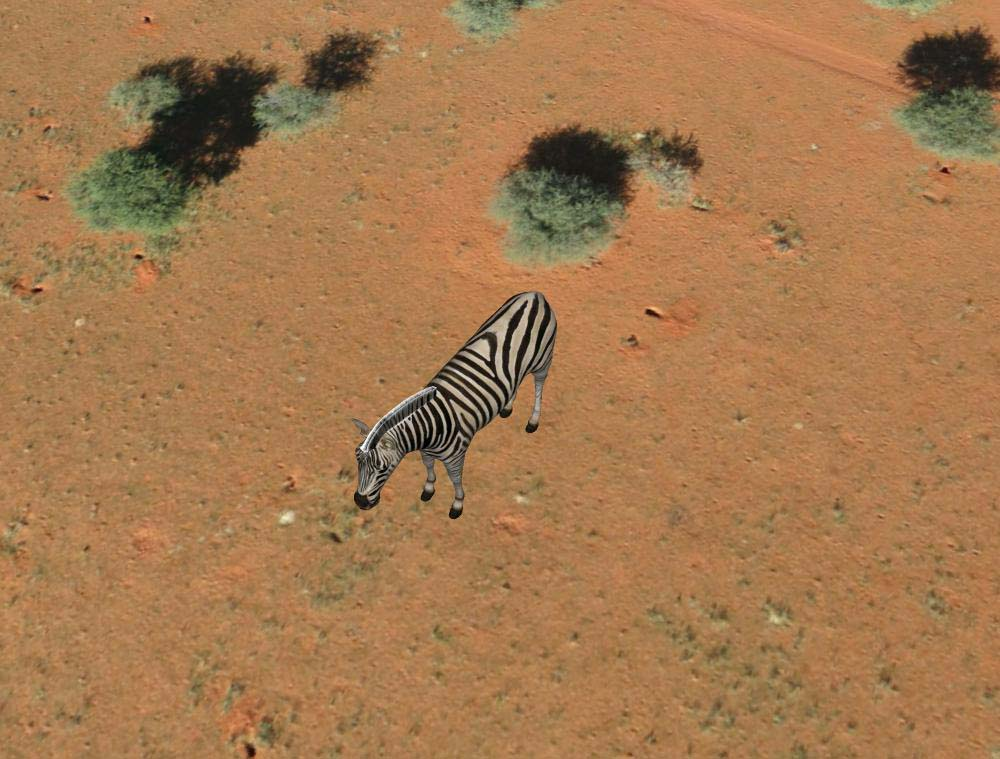zebra: (352, 285, 558, 523)
